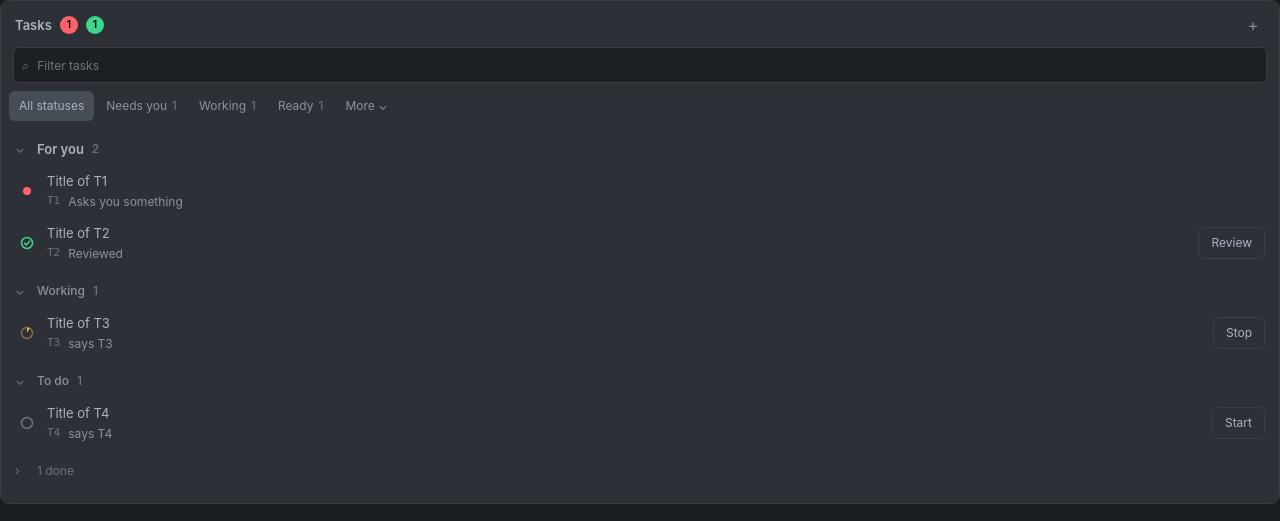
Test: TasksScreen with data › filters as you type and says when nothing matches
Step 1. Type "t4" into the search field labelled "Filter tasks" → (647, 65), box [35,48,1258,82]
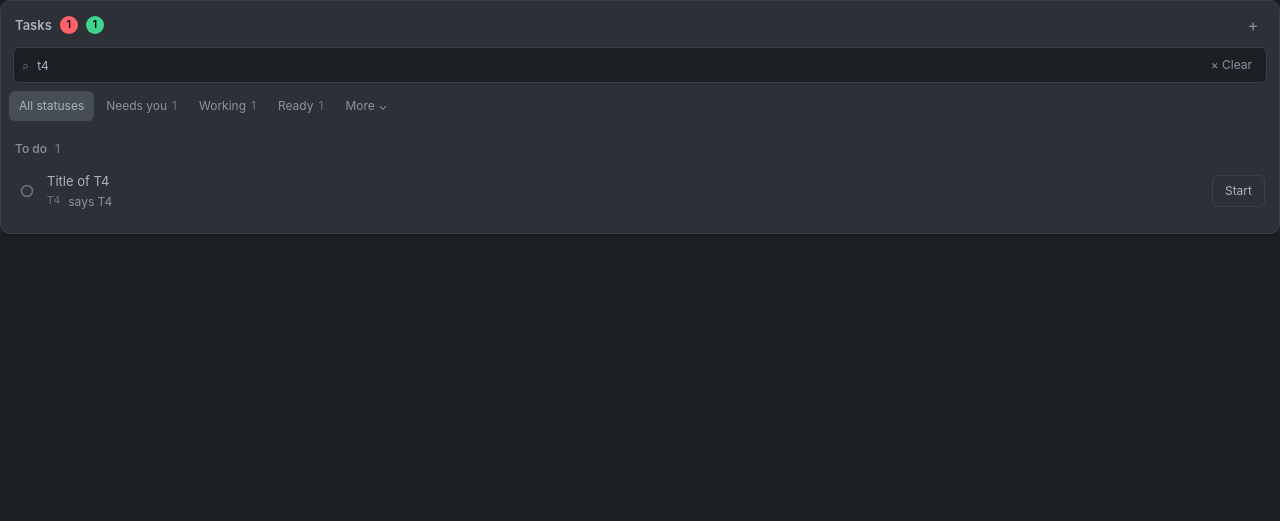
Expected: the text "Title of T4" is shown, [47,172,112,191]
Result: the button "Title of T3" is gone
Step 2. Replace the text in the search field named "Filter tasks" with "zzz" → (617, 65), box [35,48,1199,82]
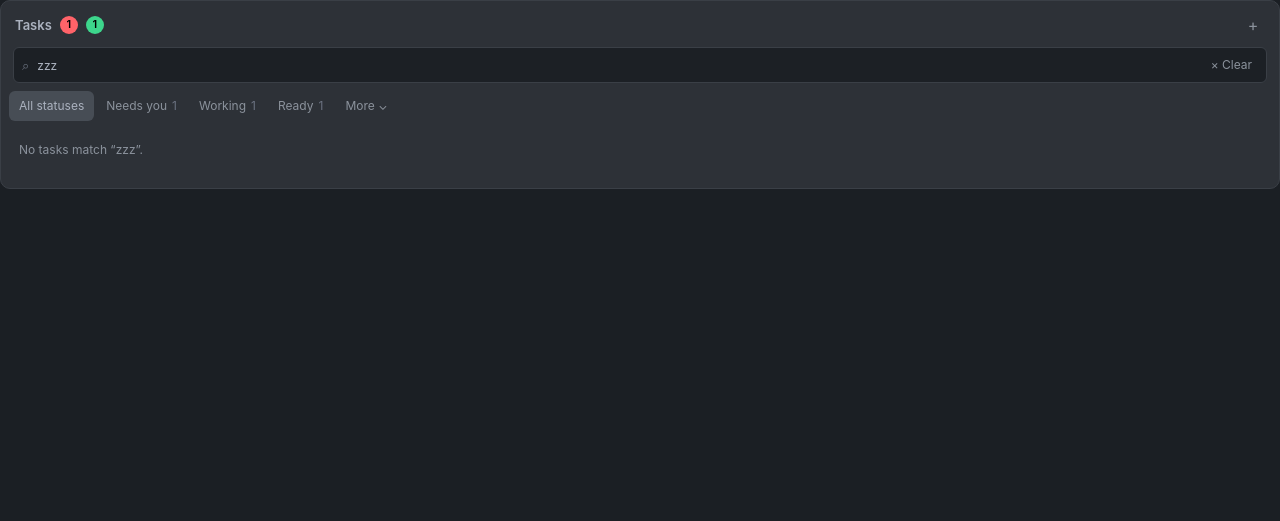
Result: the text "No tasks match “zzz”." is shown at [19,142,143,157]
Step 3. Click the button "× Clear" → click(1231, 65), box [1205,52,1258,78]
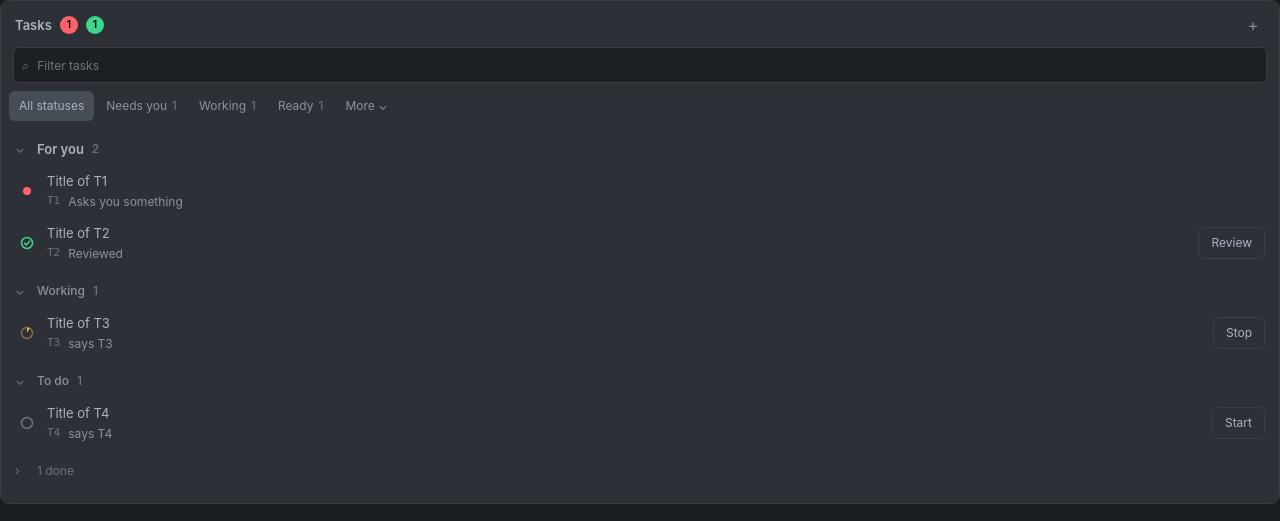
Result: the text "Title of T3" is shown at [47,314,113,333]
